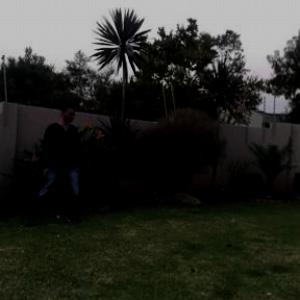follow: (43, 93, 81, 228)
